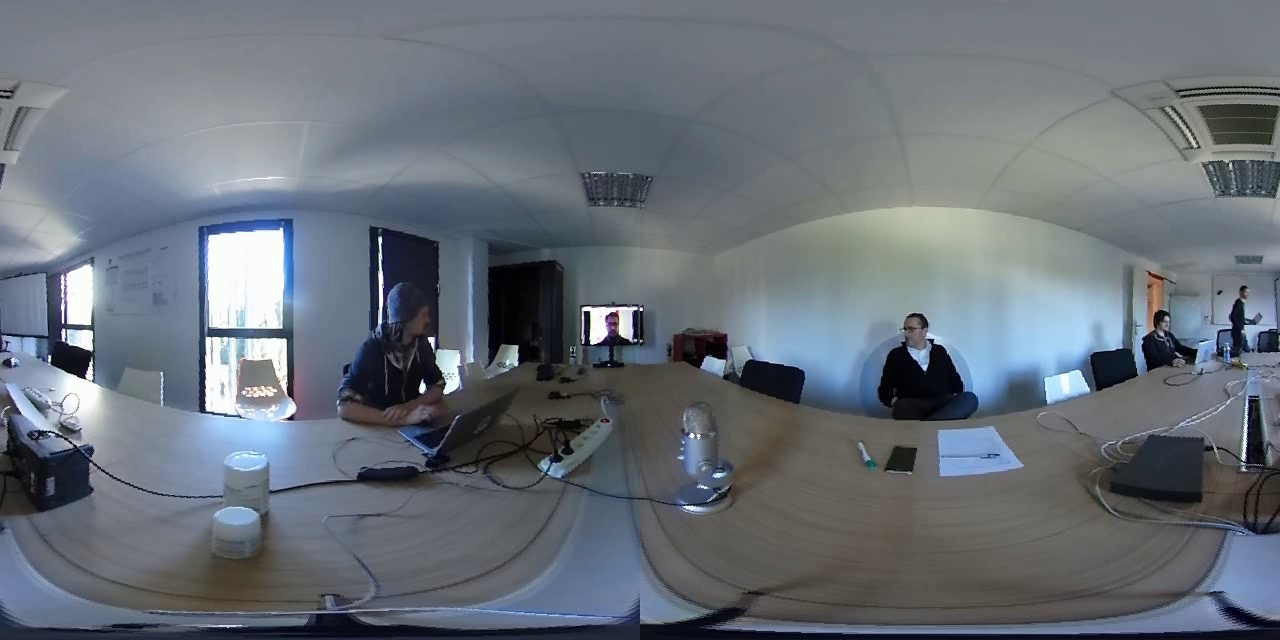person: (331, 268, 470, 427), (864, 292, 982, 422), (1135, 307, 1197, 368), (1216, 282, 1261, 349), (583, 301, 647, 340)
